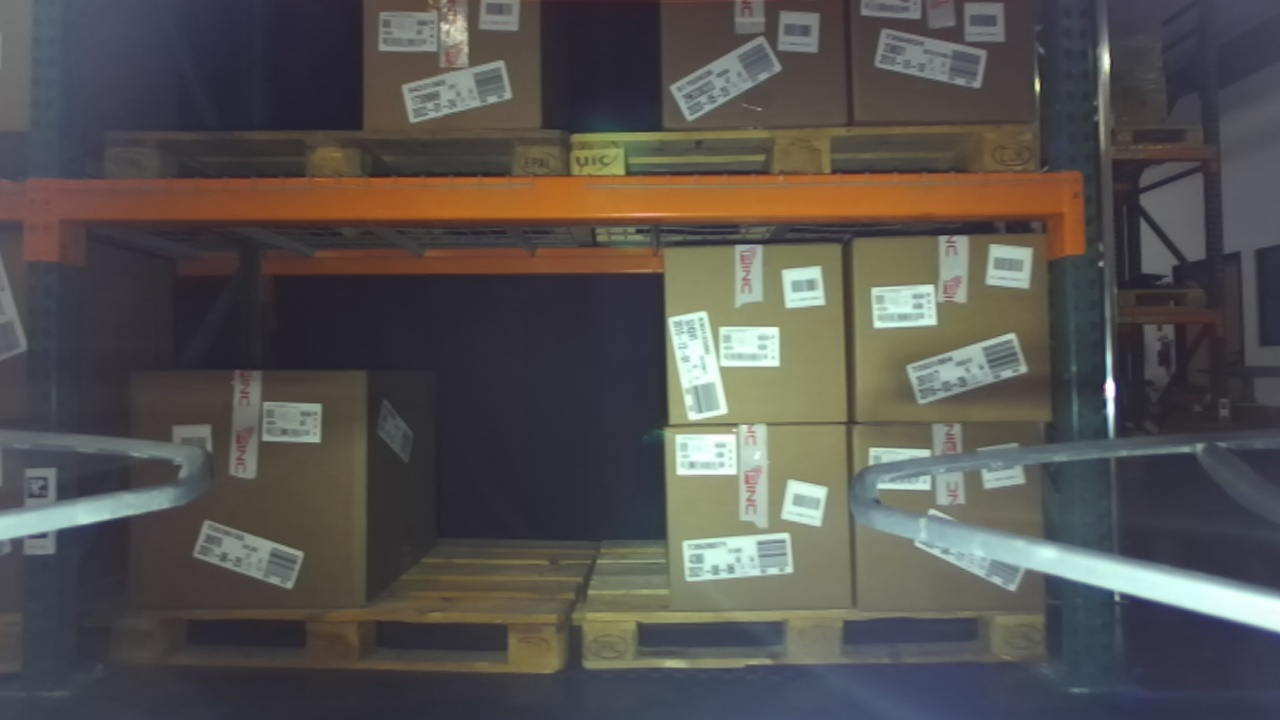box: (103, 336, 400, 640), (826, 393, 1080, 642), (636, 402, 887, 634), (827, 214, 1065, 441), (638, 227, 876, 451), (822, 7, 1063, 150), (333, 1, 562, 151), (640, 1, 865, 151)
